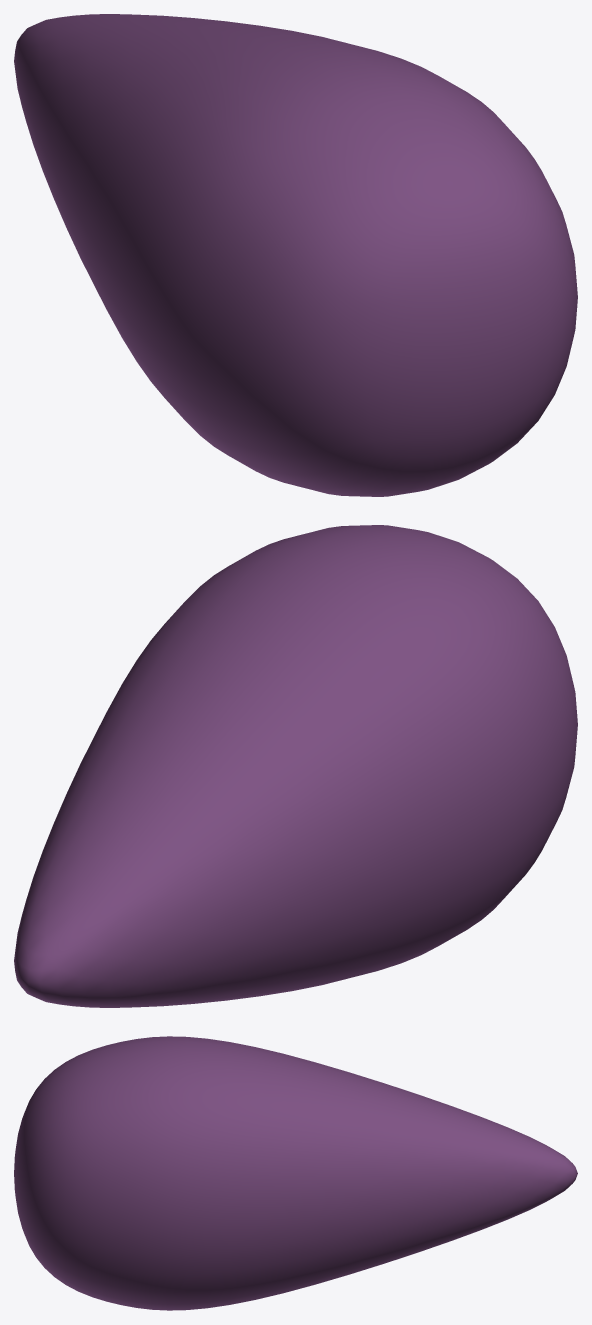
The model's file is Antimatter_bullet.fbx.
3 renders of one model, top to bottom at view 1: azimuth 30°, elevation 25°; view 2: azimuth 150°, elevation 25°; view 3: azimuth 270°, elevation 25°, orthographic. The views are drawn at different scales.
Visible parts, largest first — view 1: pCube2; view 2: pCube2; view 3: pCube2.
Part boxes in pixels (x1,y1,x2,y2): pCube2: [14, 14, 577, 496]; pCube2: [14, 525, 577, 1007]; pCube2: [14, 1036, 577, 1310].
Bounding box in the file's own units: 1.8 × 1.8 × 3.76.
